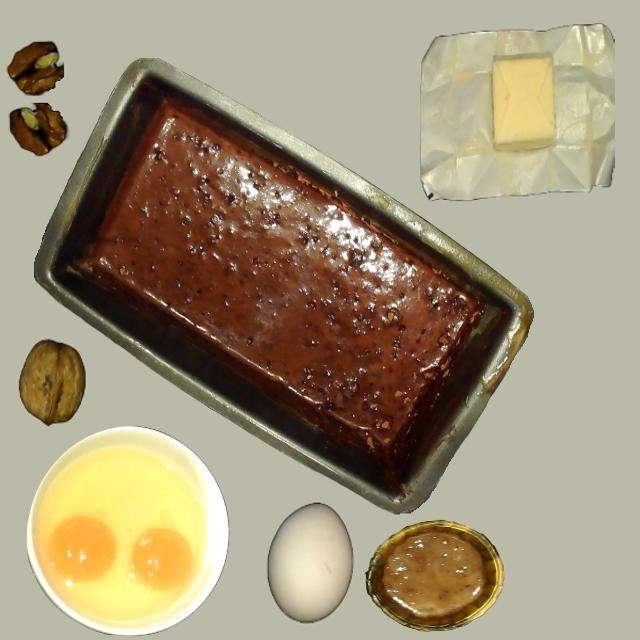Egg: (24, 501, 126, 612), (126, 531, 208, 608)
Walnut: (12, 334, 90, 427)
